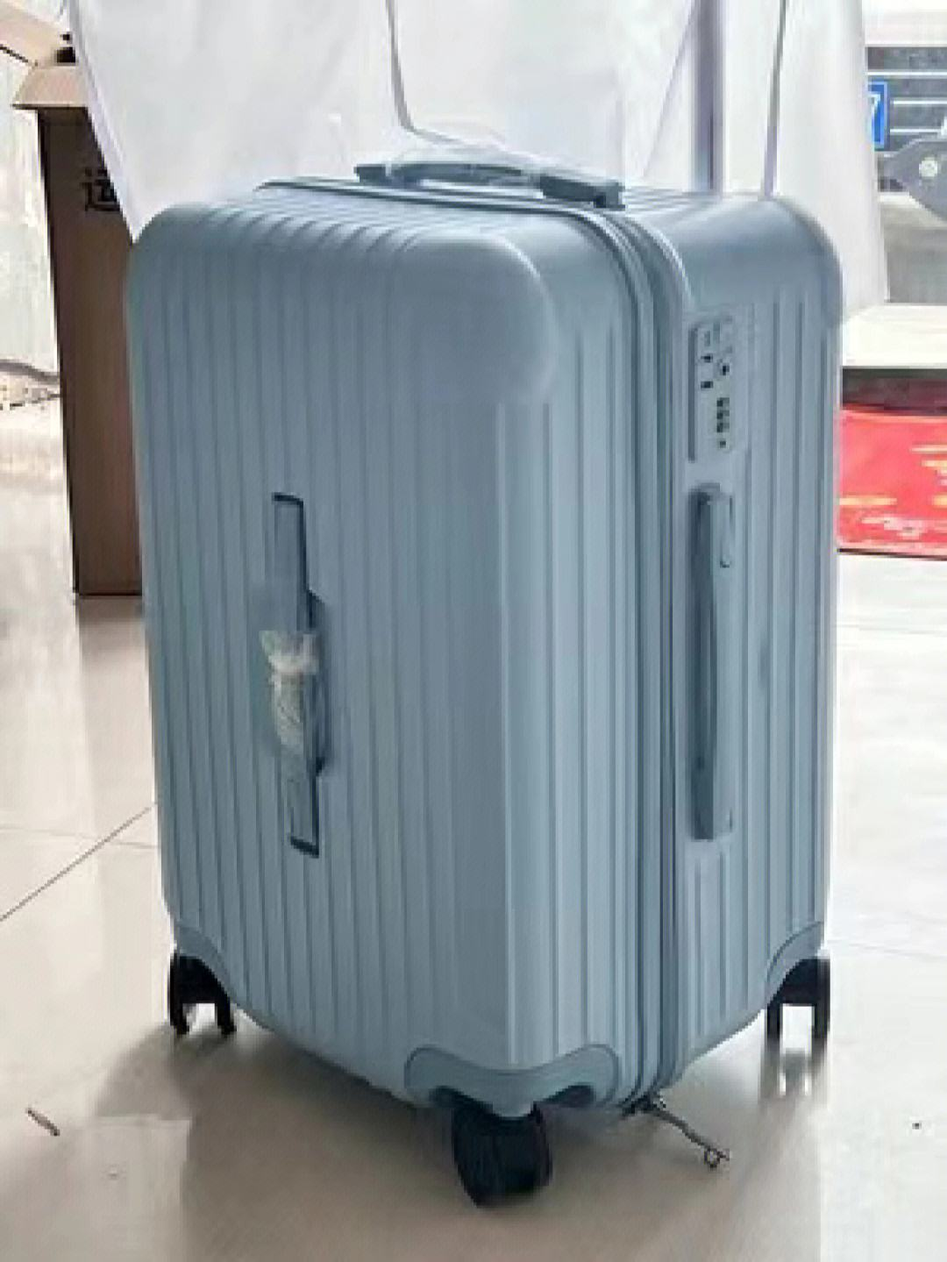box: (119, 172, 844, 1119)
handle: (691, 482, 744, 843), (355, 150, 626, 206)
lock: (689, 317, 738, 473)
wheel: (452, 1103, 557, 1209), (165, 946, 245, 1042), (762, 954, 834, 1045)
